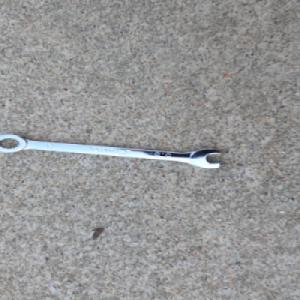Wrench: (0, 132, 222, 170)
